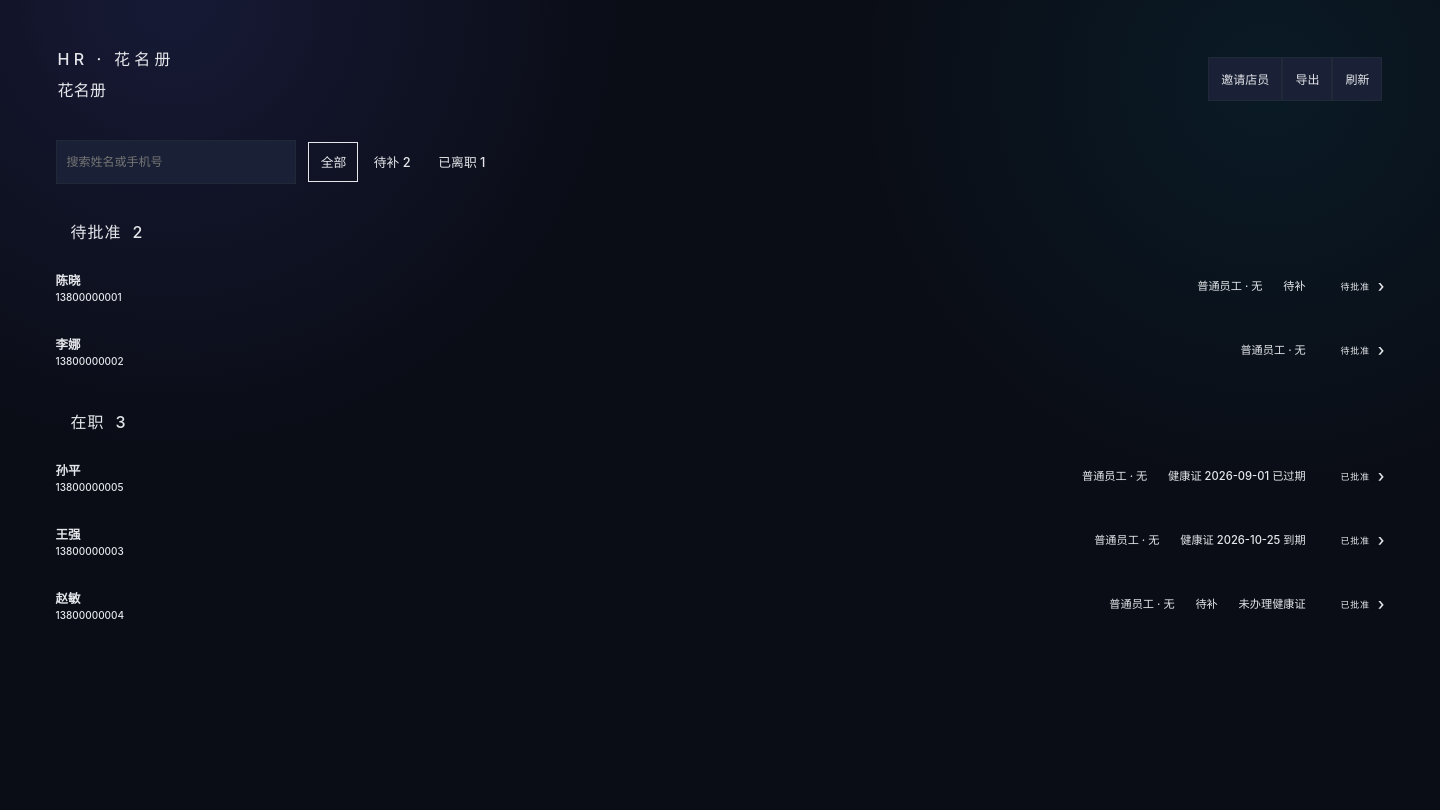
Test case: 花名册 · 编辑抽屉 › 点行打开抽屉：12 项字段按定稿顺序，手机号与注册时间只读
Click the button with class "roster-row" that starts with "普通员工 · 无" at (90, 551), box [42,508,1398,572]
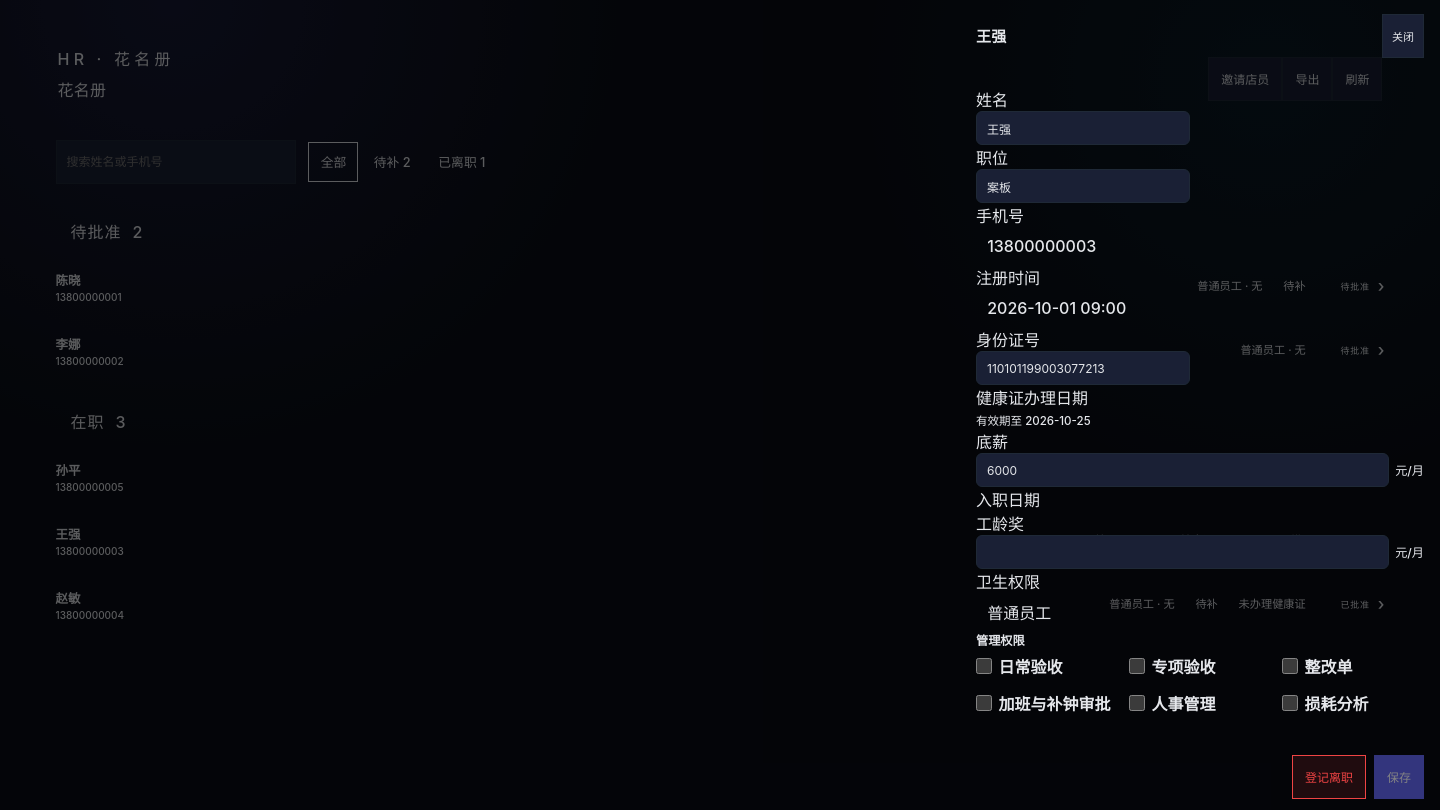
Expected: the heading with class "roster-drawer-title" reads "王强", [976,27,1007,46]
Expected: the element with class "roster-drawer" shows "管理权限", [976,633,1025,648]
Expected: the text with class "is-mono" reads "13800000003", [987,236,1096,256]
